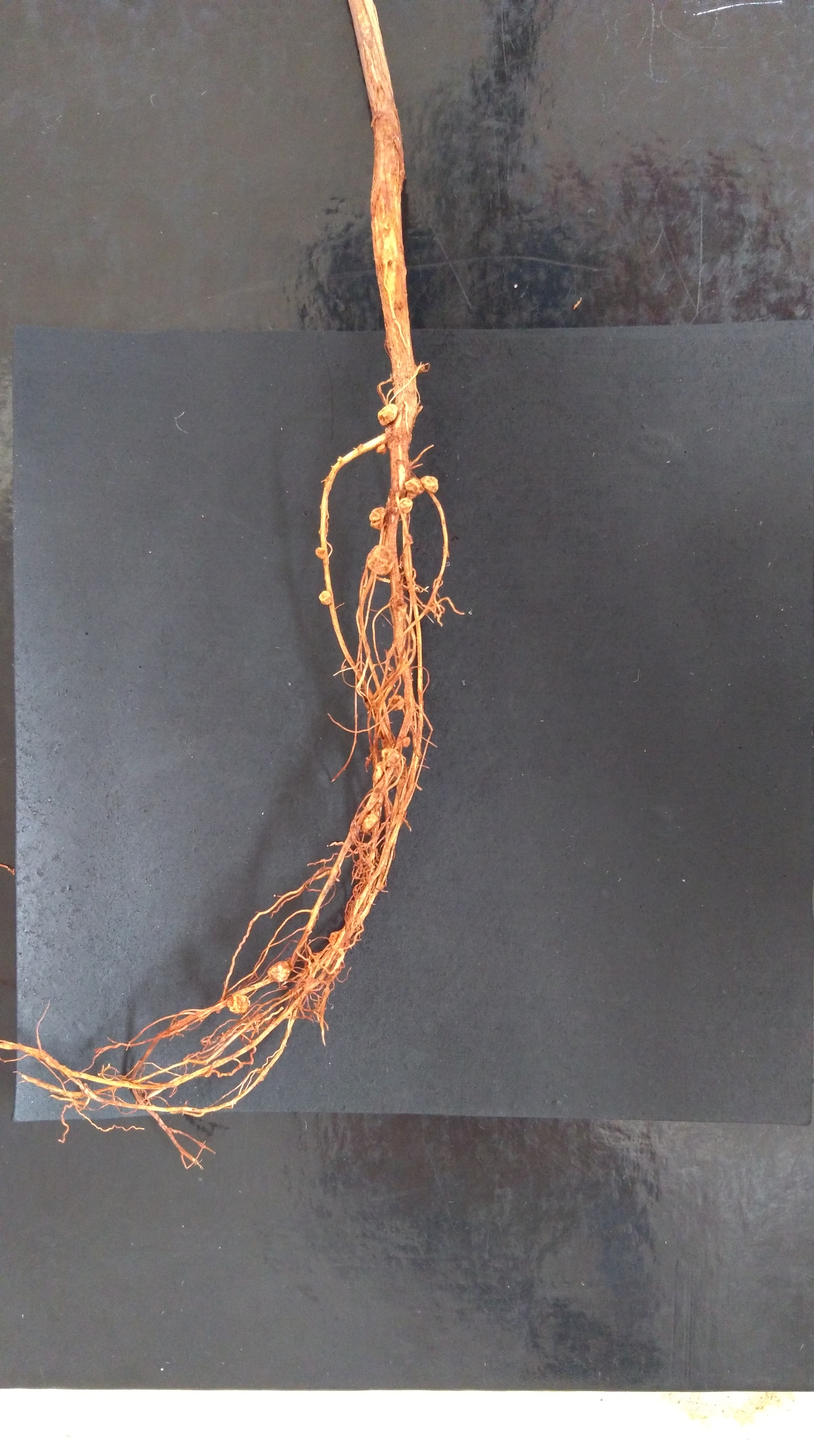nodule: (365, 545, 394, 575), (267, 961, 291, 983), (377, 403, 398, 426), (226, 994, 249, 1014), (355, 813, 379, 832), (328, 931, 349, 952), (369, 507, 386, 530), (373, 761, 390, 783), (381, 747, 400, 766), (420, 476, 439, 494), (405, 478, 425, 495), (359, 843, 376, 863), (363, 699, 381, 715), (388, 695, 405, 711), (399, 497, 413, 513), (302, 976, 317, 990), (319, 591, 332, 606), (315, 547, 326, 559), (376, 443, 387, 454), (402, 737, 409, 747), (205, 1070, 212, 1078), (336, 455, 342, 462)
